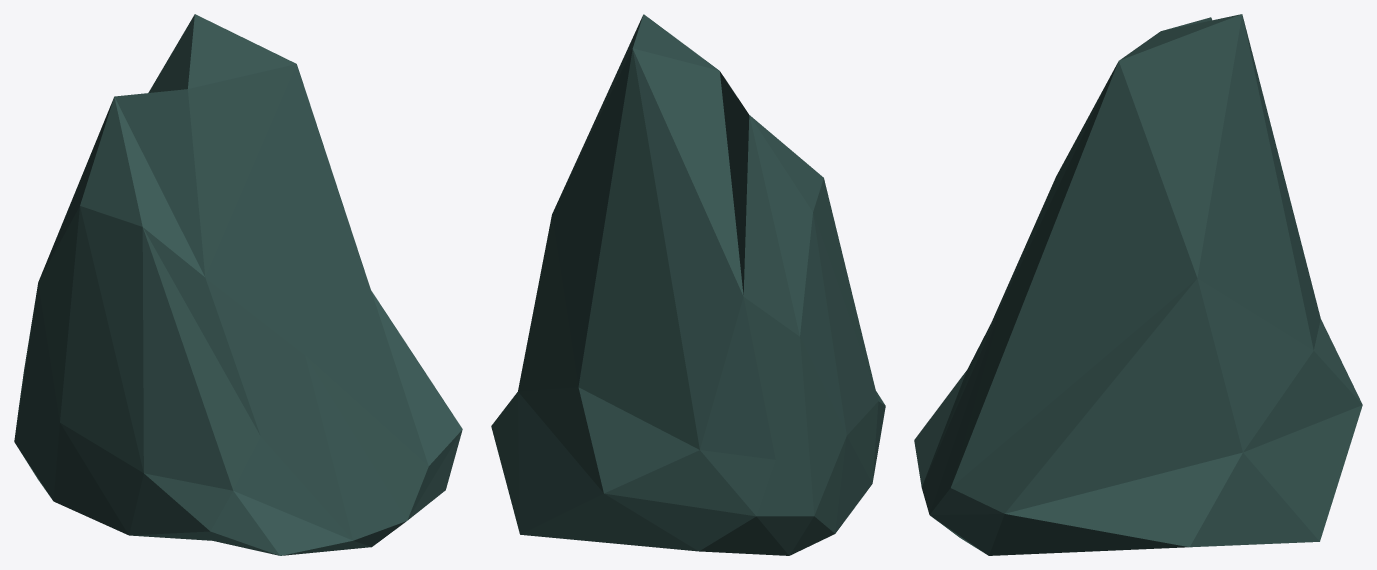
File: stone004.fbx
The picture shows the model from 3 angles, left to right: view 1: azimuth 30°, elevation 25°; view 2: azimuth 150°, elevation 25°; view 3: azimuth 270°, elevation 25°; orthographic projection. The views are drawn at different scales.
Parts seen in each view (by area): view 1: stone004; view 2: stone004; view 3: stone004.
Part boxes in pixels (<box>): stone004: <box>14,14,462,555</box>; stone004: <box>491,14,885,555</box>; stone004: <box>914,14,1362,555</box>.
Bounding box in the file's own units: 117 × 151 × 123.
